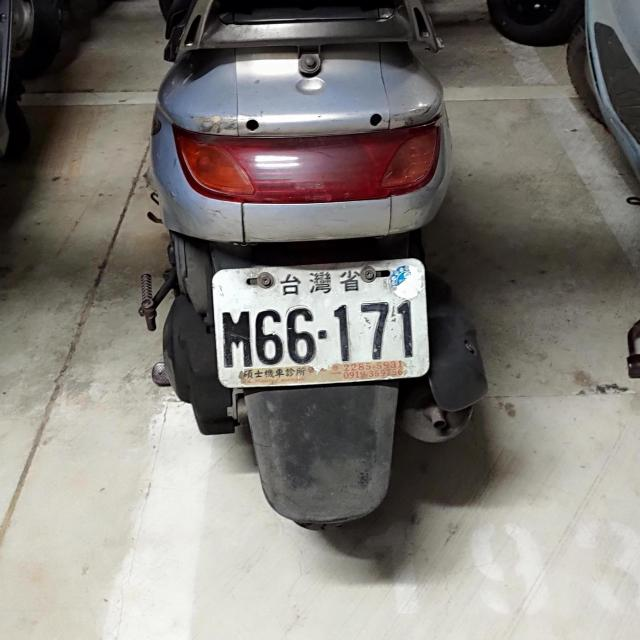W: (210, 255, 428, 391)
